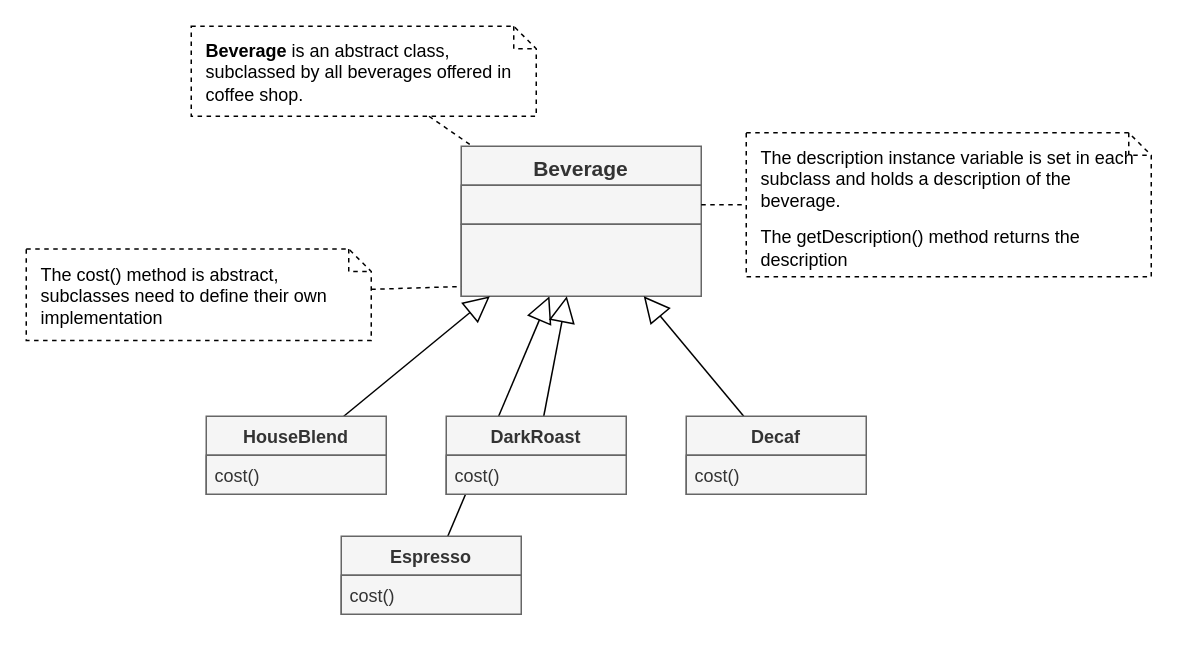
The diagram is 1178 pixels wide and 645 high, and some of its shapes have lost their labels. The shapes that lost their labels are listed below. From the top down, each one's centre as x and y in pixels, then its label:
At point (580, 204): "+ description".
At point (580, 259): "+ getDescription() + cost()".
